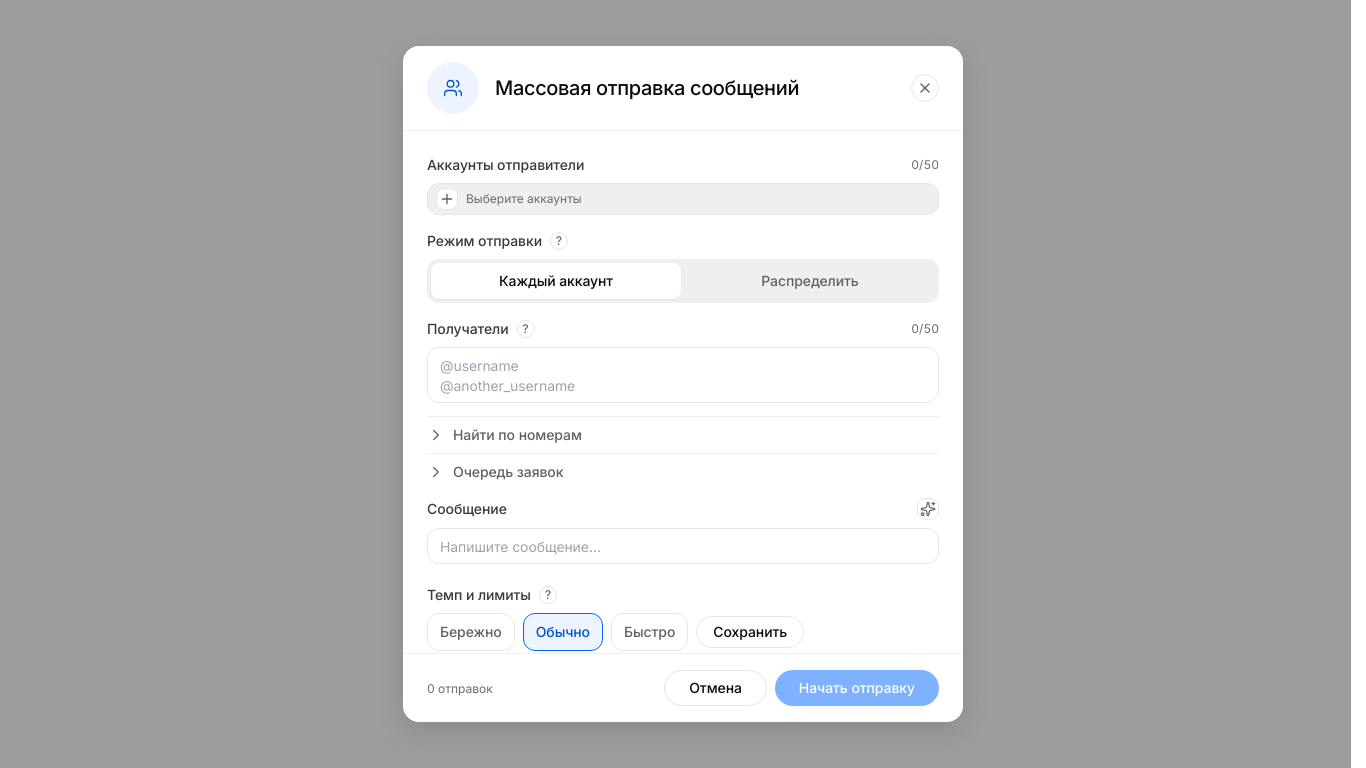
Test case: AI generation is optional and inserts editable text
The image size is (1366, 768).
Click the button named "Создать текст с ИИ" at (928, 509), box [917,498,939,520]
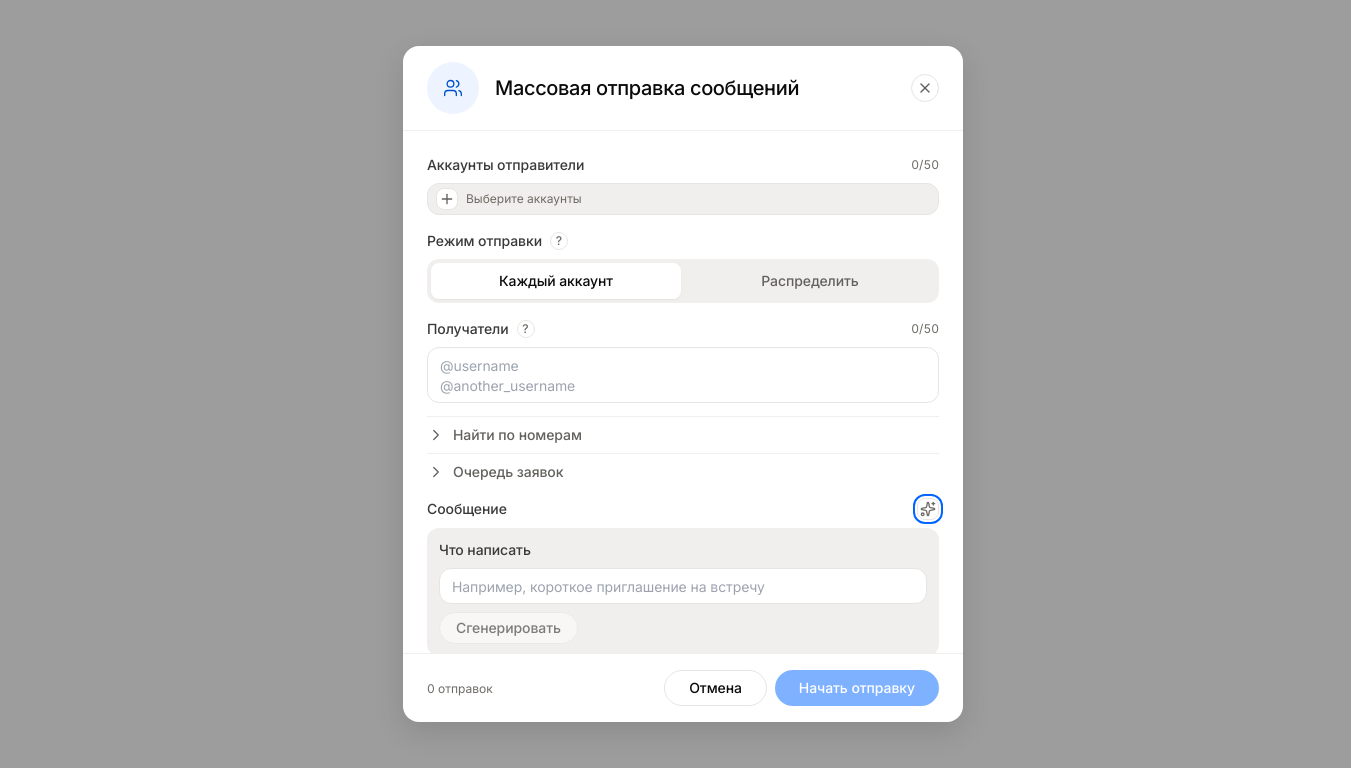
Type "Greeting" into the field labelled "Что написать" at (683, 586), box [439,568,927,604]
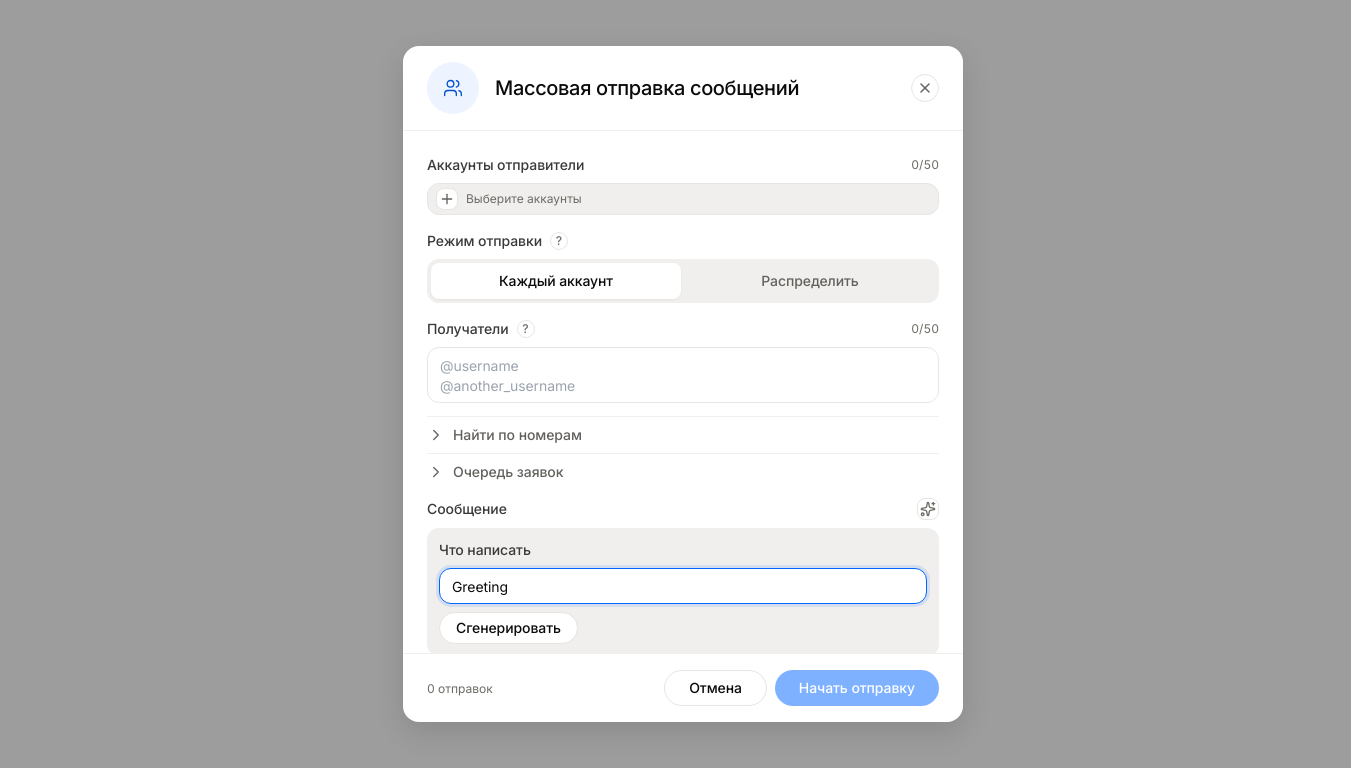
Click the button "Сгенерировать" at (508, 628), box [439,612,578,644]
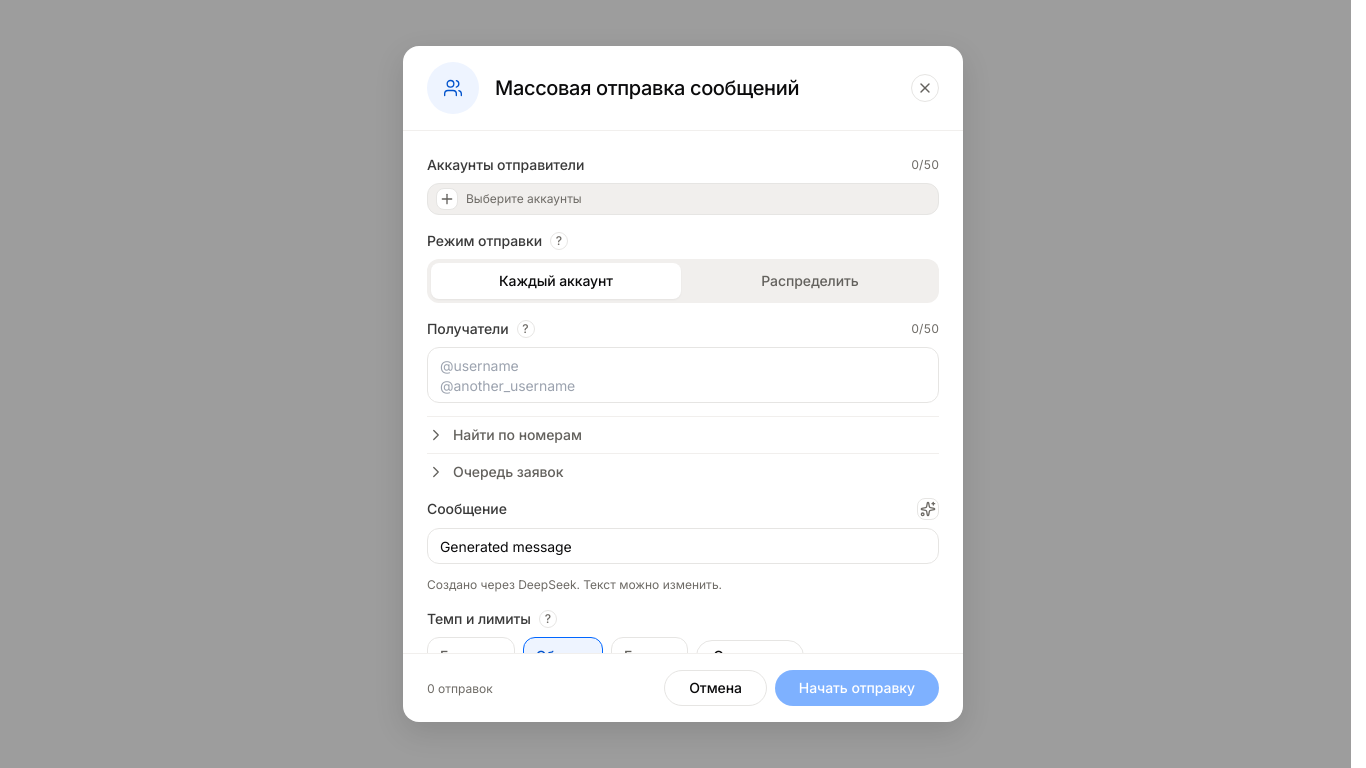
Expected: the text box labelled "Сообщение" holds "Generated message"
Expected: the text "Создано через DeepSeek. Текст можно изменить." is shown, [427,577,722,592]
Type "!" into the text box labelled "Сообщение" at (683, 546), box [427,528,939,564]
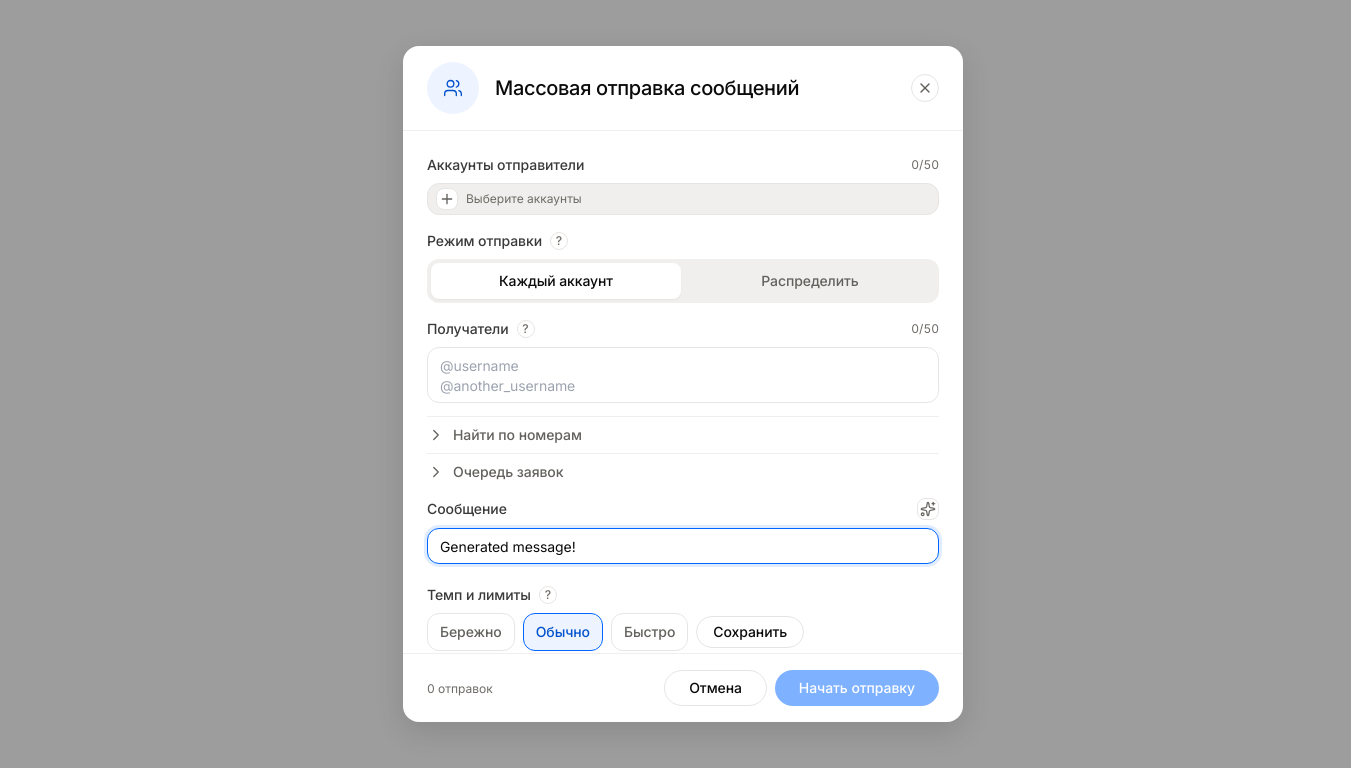
Expected: the text box labelled "Сообщение" holds "Generated message!", [427,528,939,564]
